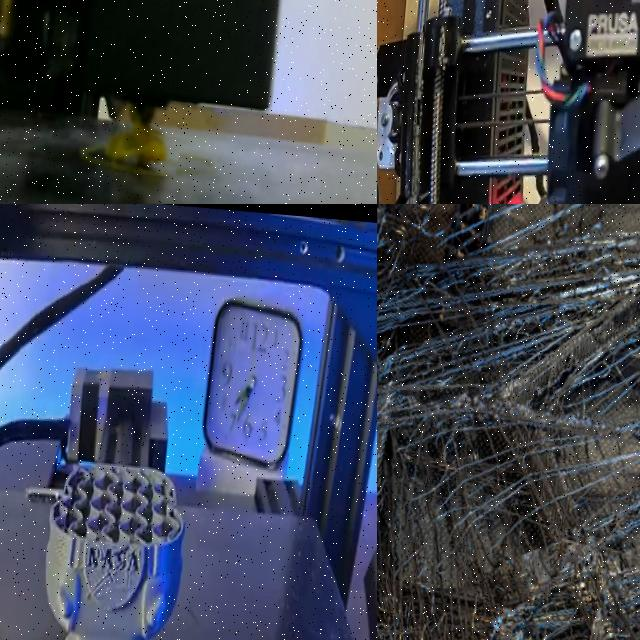spaghetti: (377, 204, 640, 640), (100, 124, 182, 178)
